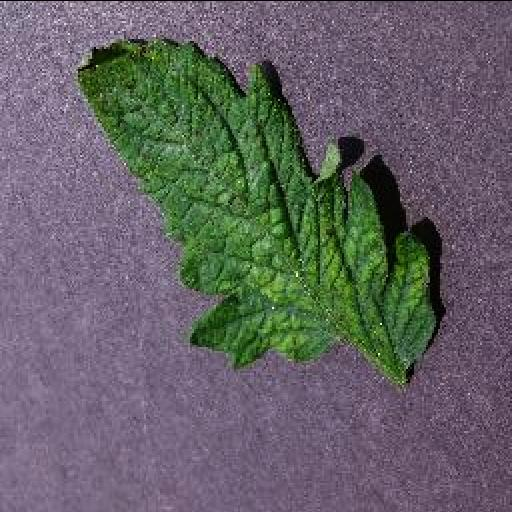Mosaic Virus: (72, 37, 434, 367)
